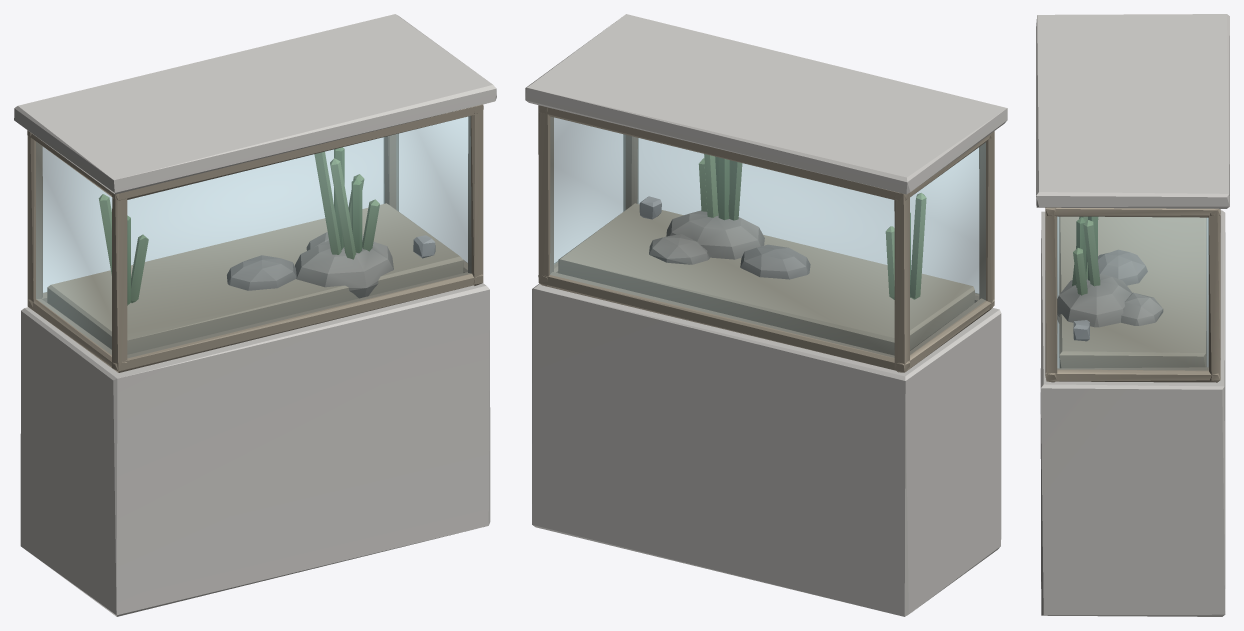
File: furn_fish_tank__white_low.glb
3 renders of one model, left to right at view 1: azimuth 30°, elevation 25°; view 2: azimuth 150°, elevation 25°; view 3: azimuth 270°, elevation 25°, orthographic. The views are drawn at different scales.
Size of the model in its own units: 0.92 by 1.01 by 0.4154.
